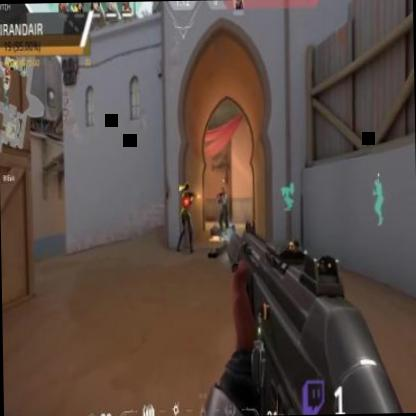enemy: (174, 180, 194, 253)
enemy_head: (184, 182, 190, 192)
